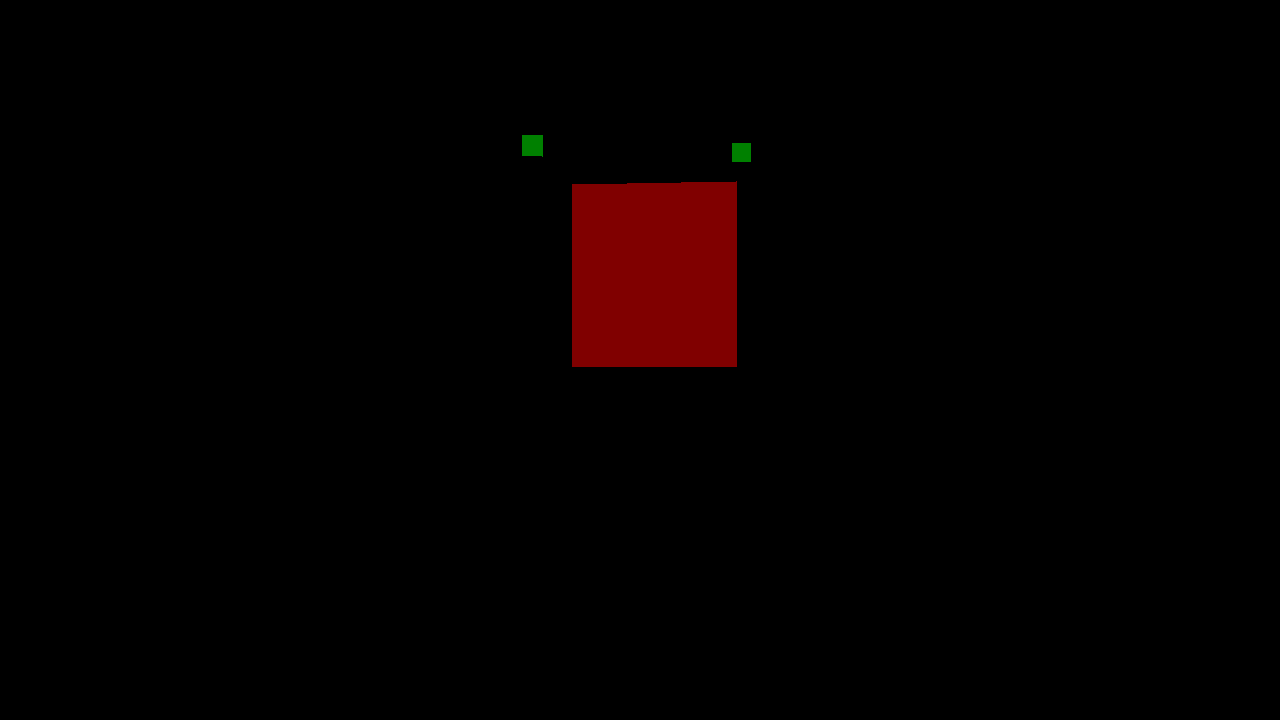door: (572, 181, 736, 366)
sign: (522, 135, 542, 156), (732, 143, 750, 161)
